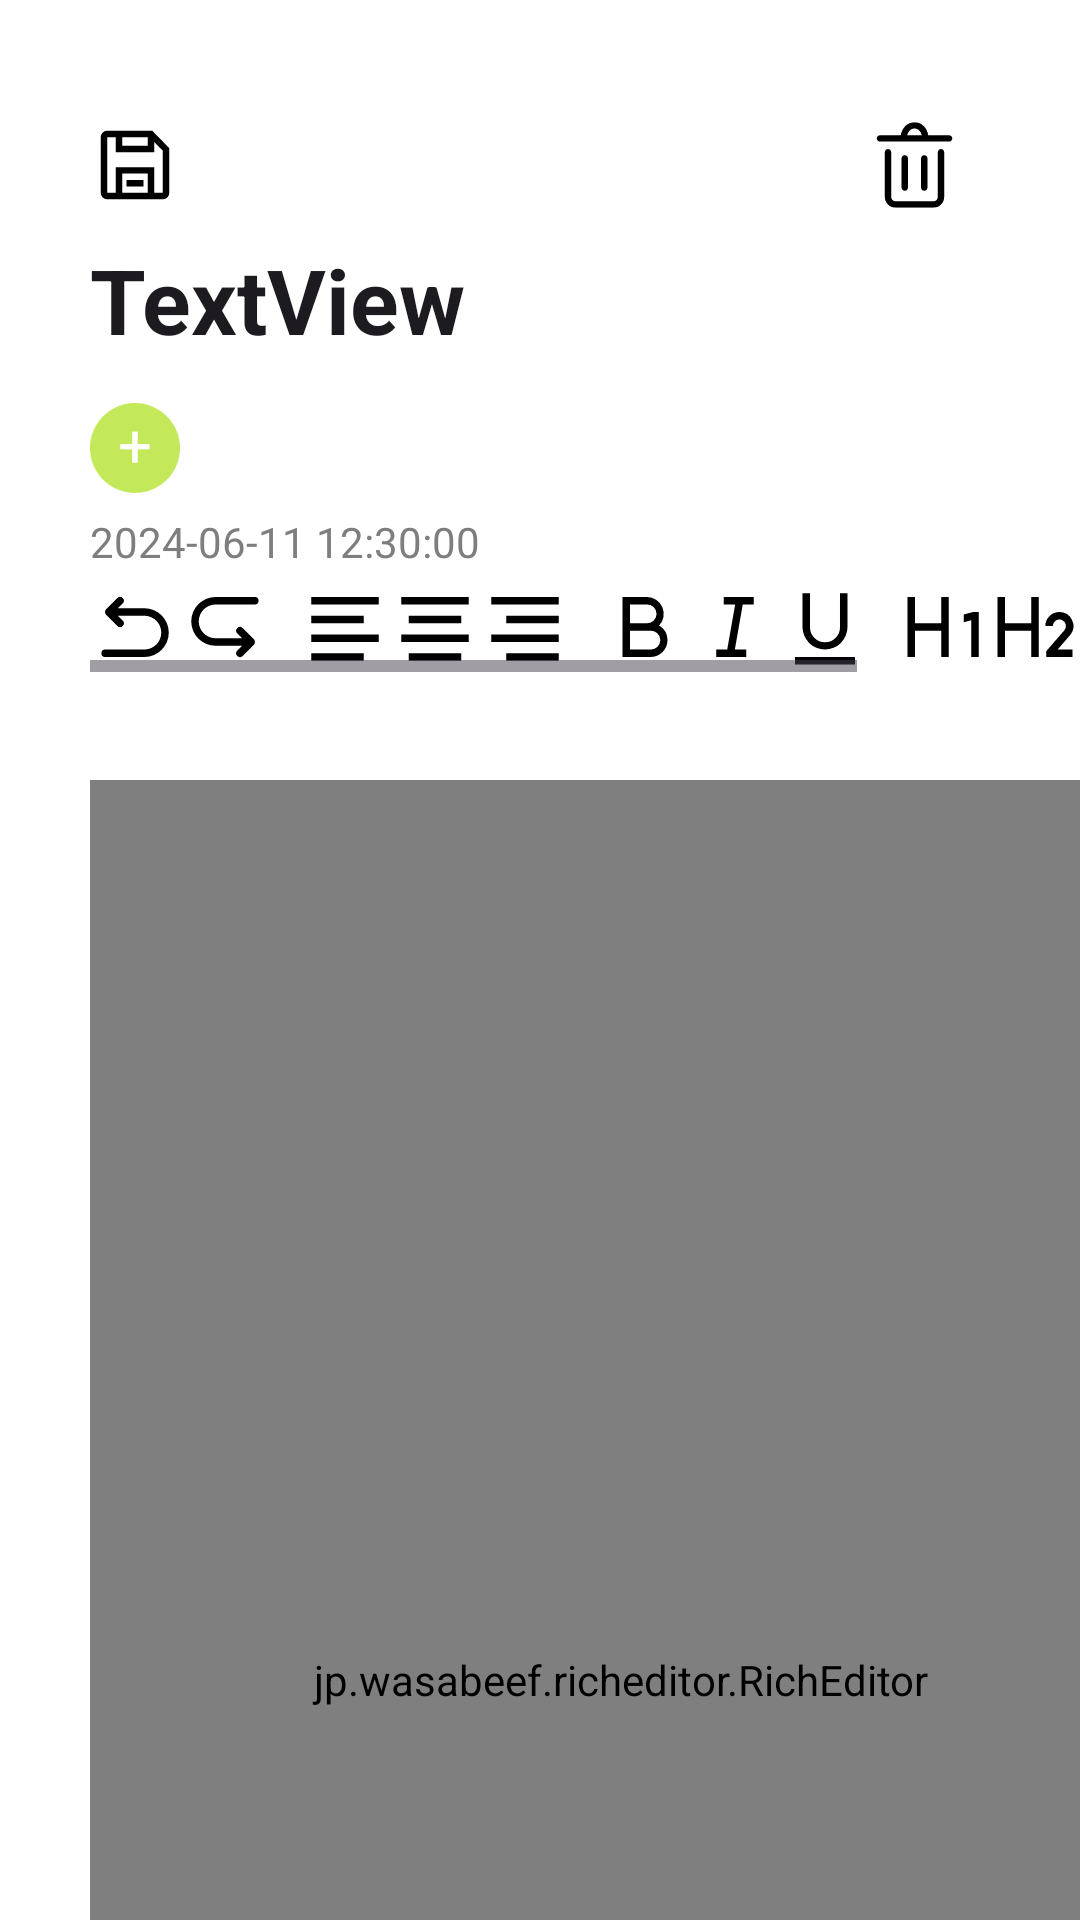

Icon click points for this 1080×1920 phone screenshot, format (x,y):
align center: (435,619)
align left: (345,619)
align right: (525,619)
redo: (225,627)
save: (135,165)
trash: (914,165)
underline: (818,632)
undo: (135,626)
